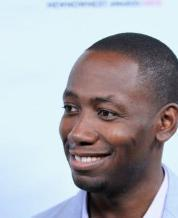face: (61, 87, 120, 172)
